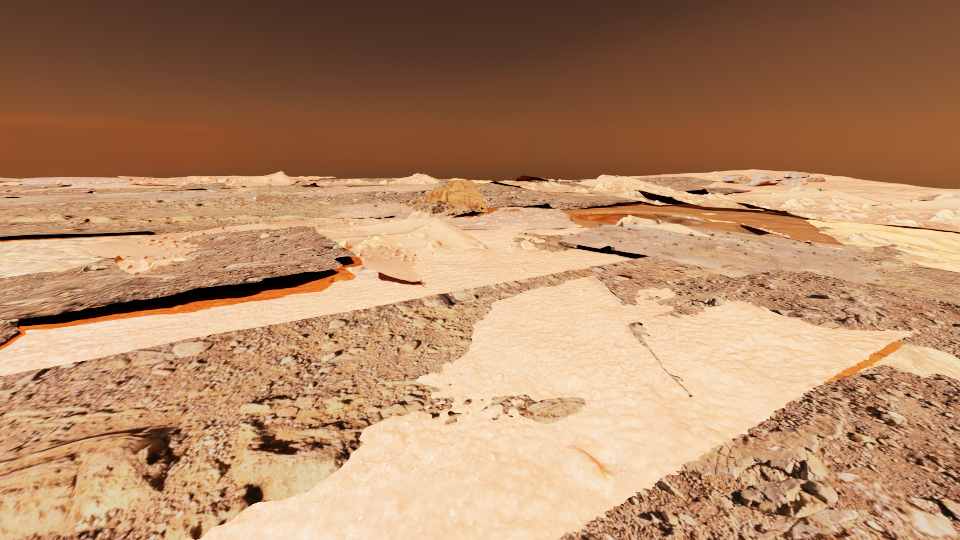bedrock: (0, 383, 461, 539), (517, 221, 959, 358), (614, 364, 959, 539), (0, 226, 356, 343), (315, 181, 637, 225), (0, 206, 321, 226), (0, 188, 312, 205), (489, 394, 585, 423), (633, 177, 751, 193), (10, 179, 129, 189), (166, 182, 232, 188), (553, 181, 591, 188), (563, 193, 622, 197), (318, 179, 347, 183), (358, 178, 396, 181), (311, 183, 338, 187), (0, 208, 41, 210), (512, 237, 525, 242), (462, 398, 471, 404), (295, 182, 308, 185)
hole: (575, 211, 707, 224)
rocks: (426, 180, 487, 211), (722, 171, 825, 185)
sand: (198, 276, 959, 539), (0, 224, 636, 375), (630, 171, 959, 203), (802, 217, 959, 263), (0, 231, 156, 277), (23, 182, 175, 190), (667, 204, 774, 212), (911, 260, 959, 270), (0, 182, 33, 189), (180, 176, 257, 179), (842, 241, 879, 246), (290, 176, 335, 180), (272, 180, 299, 184), (228, 183, 267, 185), (0, 178, 16, 180)
soil: (0, 256, 693, 409), (0, 184, 438, 274), (502, 177, 959, 262), (828, 472, 959, 539), (628, 321, 692, 396), (724, 416, 791, 453), (557, 509, 614, 539), (370, 242, 444, 264), (315, 256, 367, 281), (903, 266, 959, 284), (656, 304, 705, 317), (0, 177, 126, 182), (129, 177, 215, 184), (489, 205, 554, 214), (445, 220, 503, 229), (909, 244, 948, 252), (628, 216, 650, 223), (413, 276, 426, 287), (644, 292, 660, 299), (917, 195, 939, 200), (58, 197, 91, 200), (380, 239, 394, 246), (417, 211, 428, 217), (907, 289, 924, 292), (2, 184, 52, 185), (263, 277, 275, 281), (798, 187, 814, 190), (0, 190, 22, 192), (951, 193, 959, 197)
